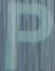Parking: (4, 1, 50, 66)
